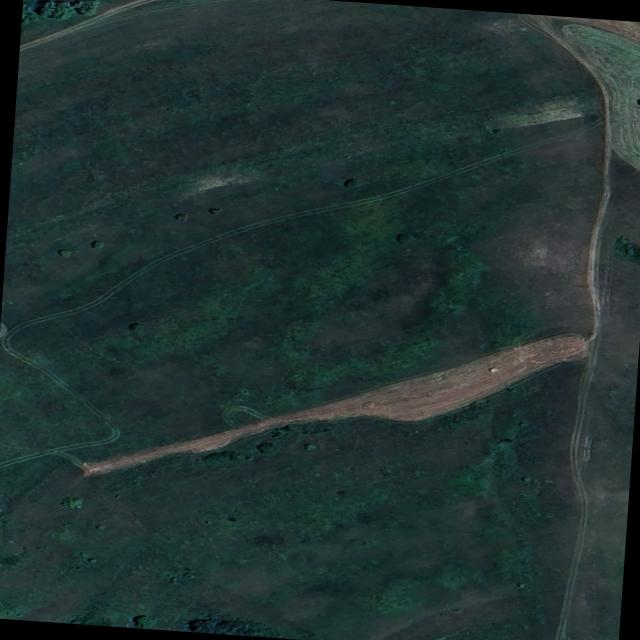bare-soil: (86, 330, 596, 475), (519, 16, 640, 178), (18, 0, 159, 52)
grass: (0, 0, 640, 640), (18, 0, 75, 47)
tree: (27, 0, 100, 22)
